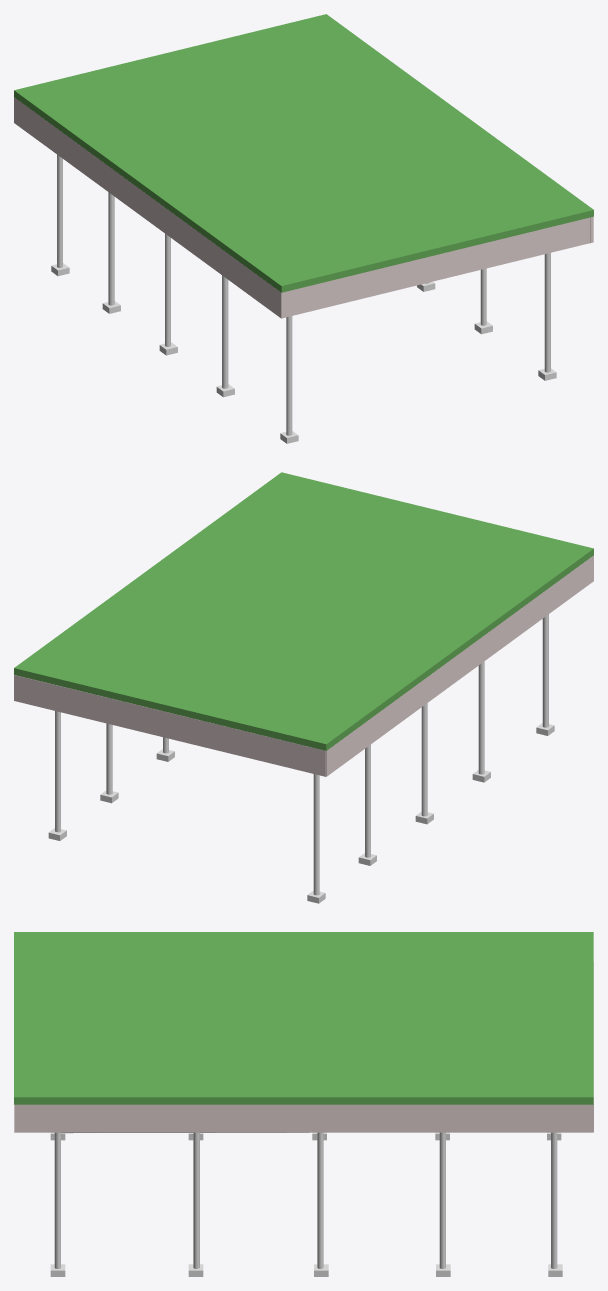
File: Elementary Court.fbx
3 renders of one model, top to bottom at view 1: azimuth 30°, elevation 25°; view 2: azimuth 150°, elevation 25°; view 3: azimuth 270°, elevation 25°, orthographic. The views are drawn at different scales.
Visible parts, largest first — view 1: Cube.001; view 2: Cube.001; view 3: Cube.001.
Part boxes in pixels (x1,y1,x2,y2): Cube.001: [14, 14, 593, 443]; Cube.001: [14, 472, 593, 903]; Cube.001: [14, 932, 593, 1276].
Size of the model in its own units: 459 by 247 by 681.
